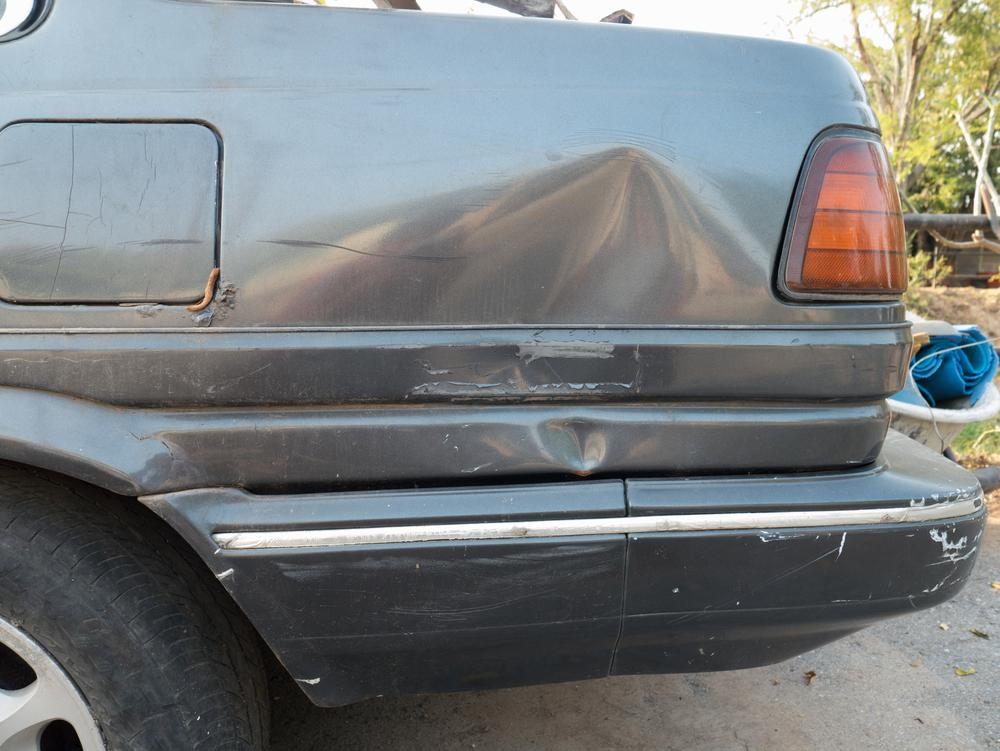dent: (249, 145, 756, 327), (537, 415, 604, 472)
scratch: (911, 485, 984, 598)
